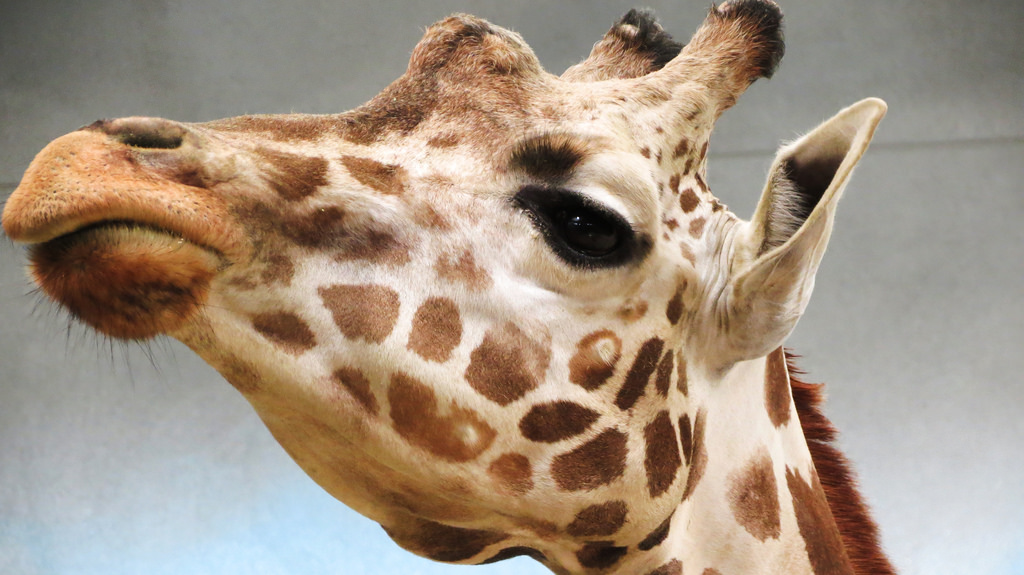giraffe: (28, 33, 908, 575)
